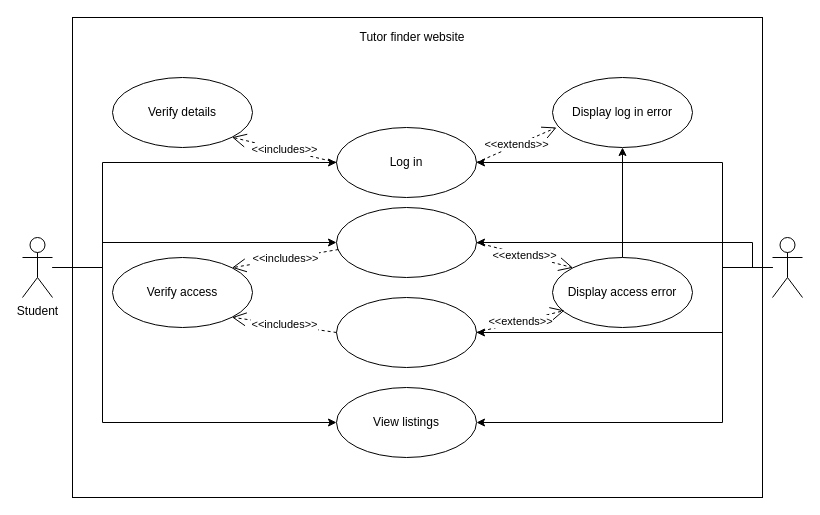
The diagram is 820 pixels wide and 515 high, and some of its shapes have lost their labels. Each missing label, with the box of its shape:
Create comment: (336, 206, 476, 278)
Create listing: (336, 296, 476, 368)
Tutor: (772, 236, 802, 298)
